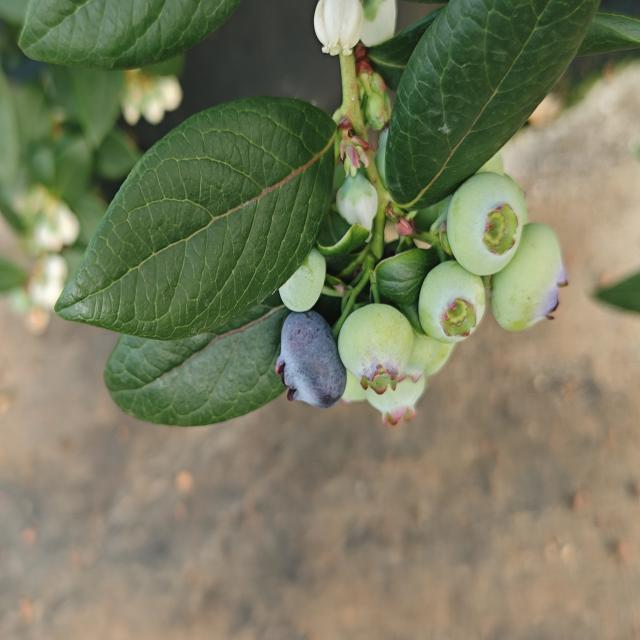ripe: (266, 310, 348, 412)
